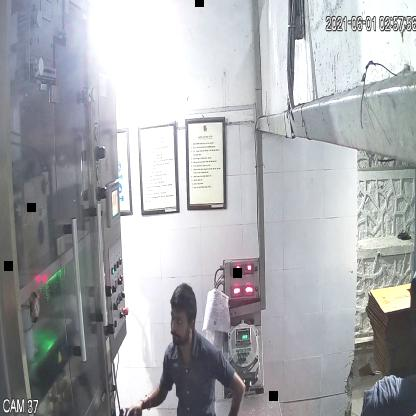no_goggles: (166, 310, 200, 333)
